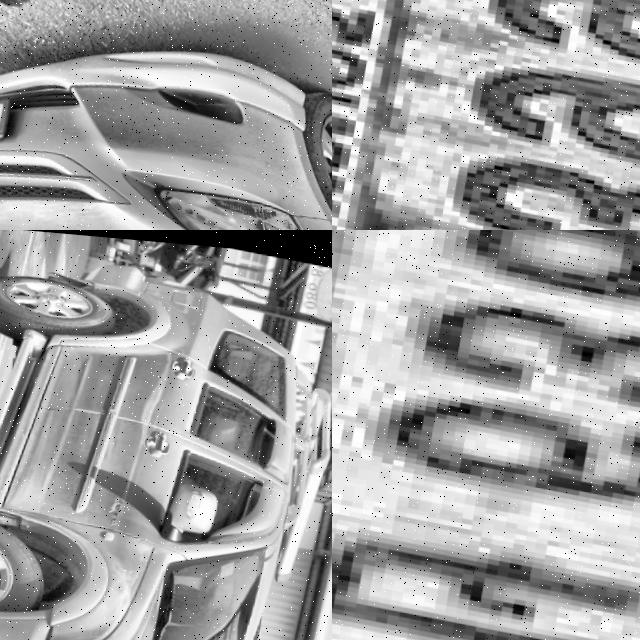license-plate: (332, 230, 640, 640), (332, 0, 640, 230), (112, 236, 130, 249)
